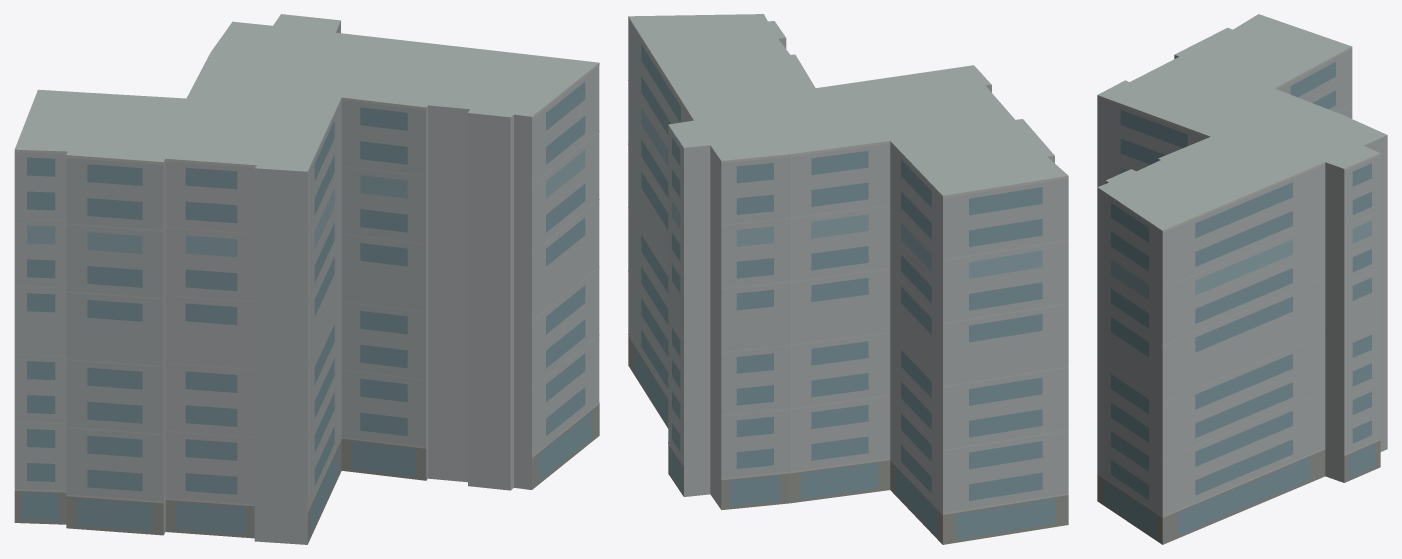
File: survey-upis-32502996.glb
3 renders of one model, left to right at view 1: azimuth 30°, elevation 25°; view 2: azimuth 150°, elevation 25°; view 3: azimuth 270°, elevation 25°, orthographic. The views are drawn at different scales.
Parts seen in each view (by area): view 1: survey-upis-32502996.tmp; view 2: survey-upis-32502996.tmp; view 3: survey-upis-32502996.tmp.
Part boxes in pixels (x1,y1,x2,y2): survey-upis-32502996.tmp: (14, 14, 599, 544); survey-upis-32502996.tmp: (628, 14, 1068, 544); survey-upis-32502996.tmp: (1097, 14, 1387, 544).
Size of the model in its own units: 49.68 by 33.55 by 28.13.
